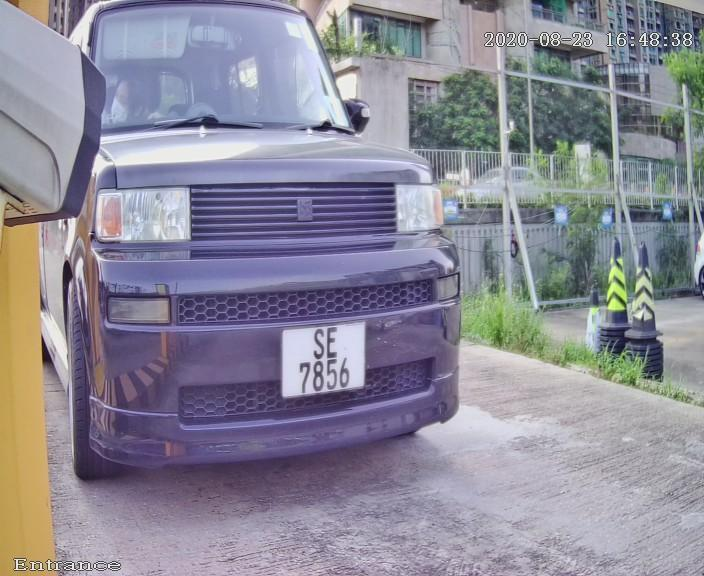Car: (7, 1, 513, 523)
License Plate: (253, 298, 397, 437)
